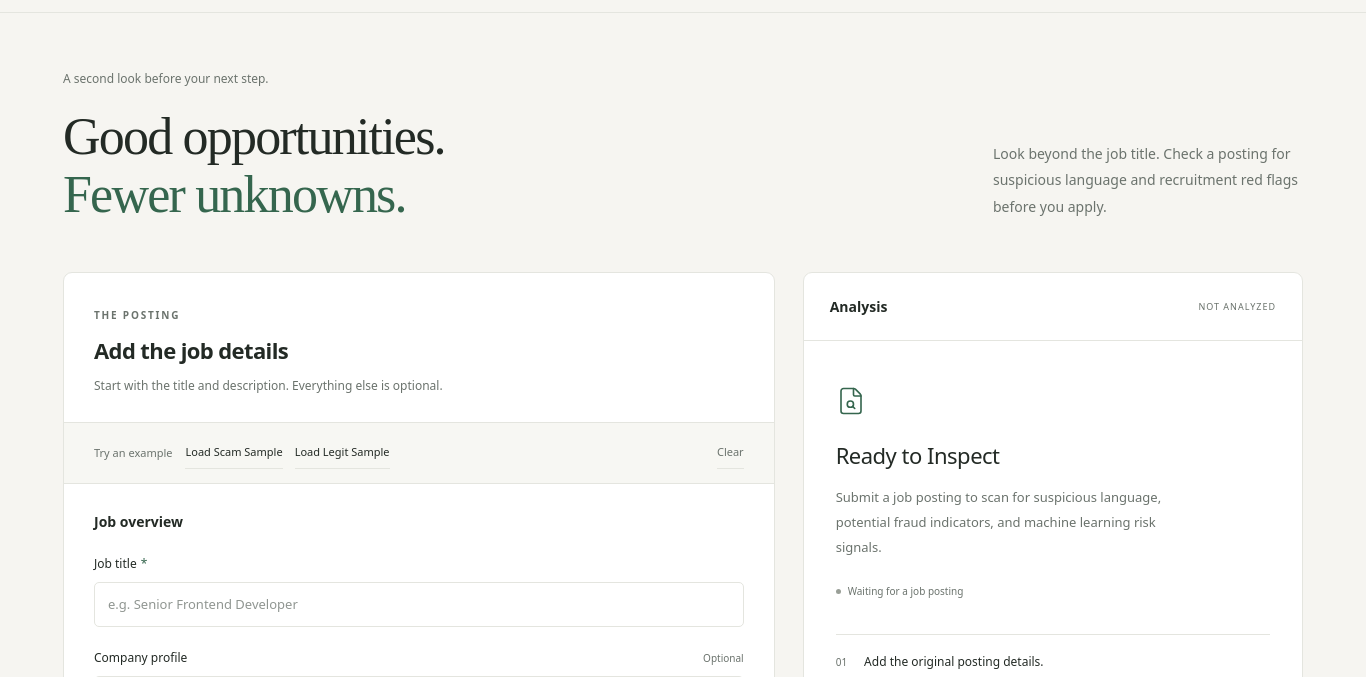
Test case: workspace › handles malformed responses without a safe verdict
Click the button "Load Scam Sample" at [234, 453], box left=186, top=437, right=283, bottom=469
(page scrolled)
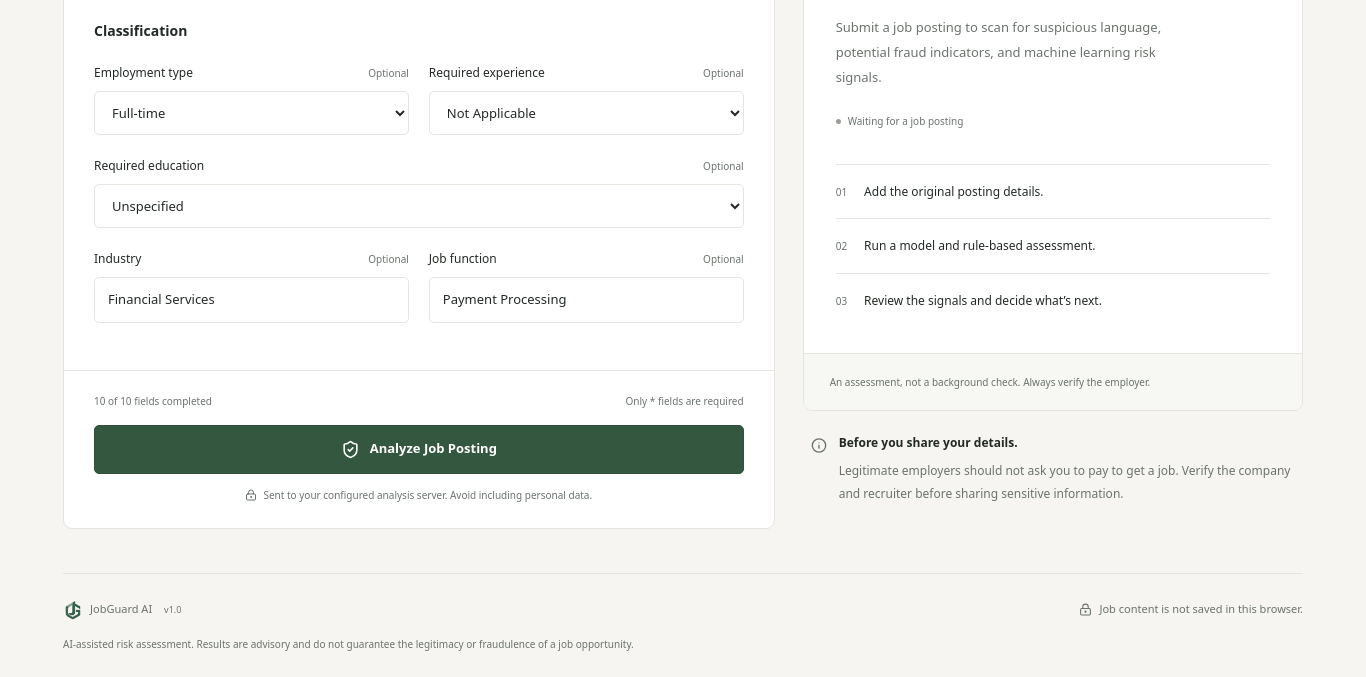
Click the button "Analyze Job Posting" at [419, 449], box left=94, top=424, right=744, bottom=474
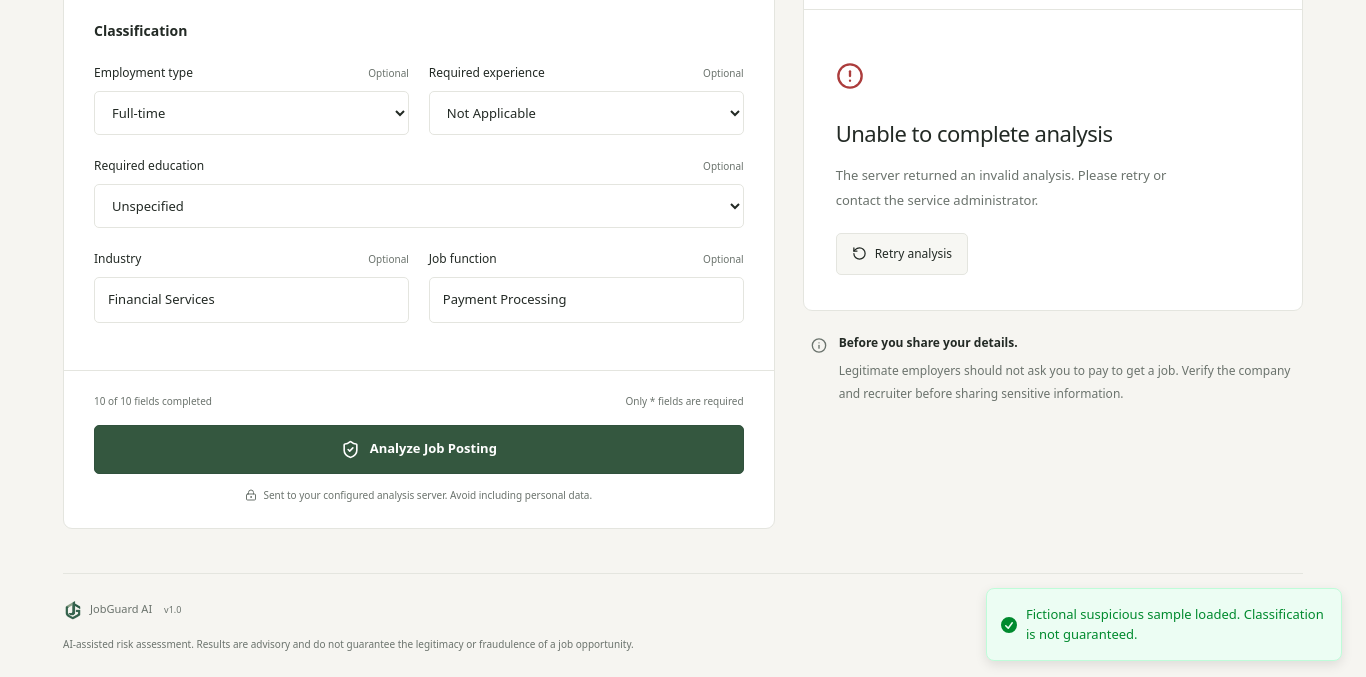
Expected: the message shows "invalid analysis", left=836, top=166, right=1166, bottom=209
